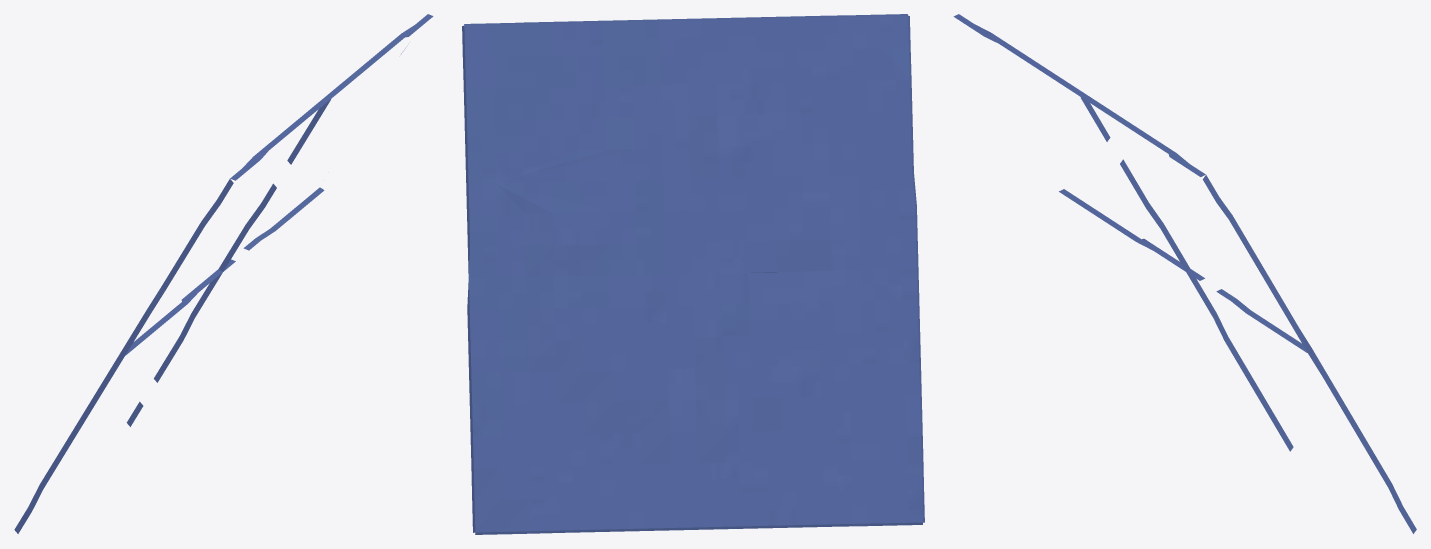
3 renders of one model, left to right at view 1: azimuth 30°, elevation 25°; view 2: azimuth 150°, elevation 25°; view 3: azimuth 270°, elevation 25°, orthographic. The views are drawn at different scales.
Size of the model in its own units: 157986 by 139015 by 140103.
1 material, 1 textured.
